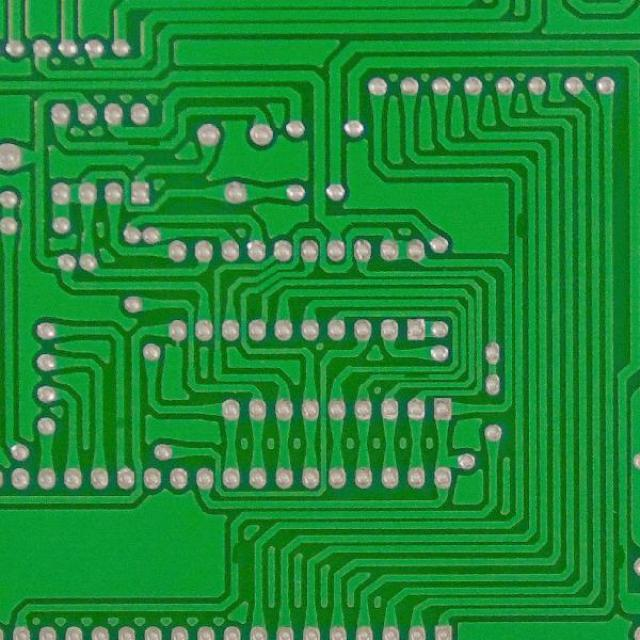MouseBite: (117, 136, 166, 154), (511, 206, 527, 245), (614, 539, 630, 576), (227, 538, 243, 570), (399, 372, 433, 383)
